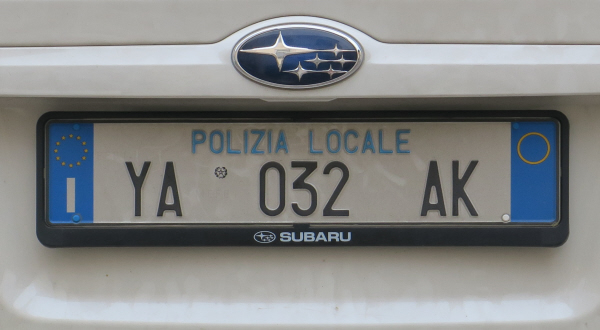license_plate: (43, 117, 562, 228)
